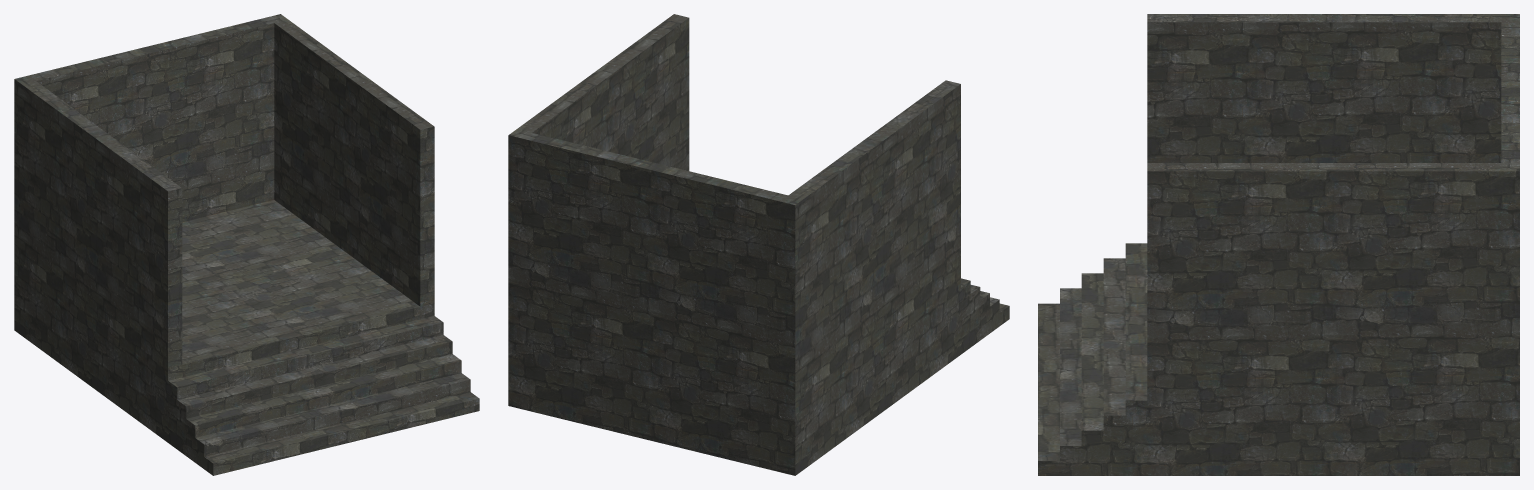
Rendered from stairs-unity-1.fbx.
The picture shows the model from 3 angles, left to right: view 1: azimuth 30°, elevation 25°; view 2: azimuth 150°, elevation 25°; view 3: azimuth 270°, elevation 25°; orthographic projection. The views are drawn at different scales.
Visible parts, largest first — view 1: stairs1; view 2: stairs1; view 3: stairs1.
Part boxes in pixels (x1,y1,x2,y2): stairs1: (14,14,479,475); stairs1: (508,14,1009,475); stairs1: (1038,14,1519,475).
Bounding box in the file's own units: 113 × 102 × 146.
1 material, 1 textured.
